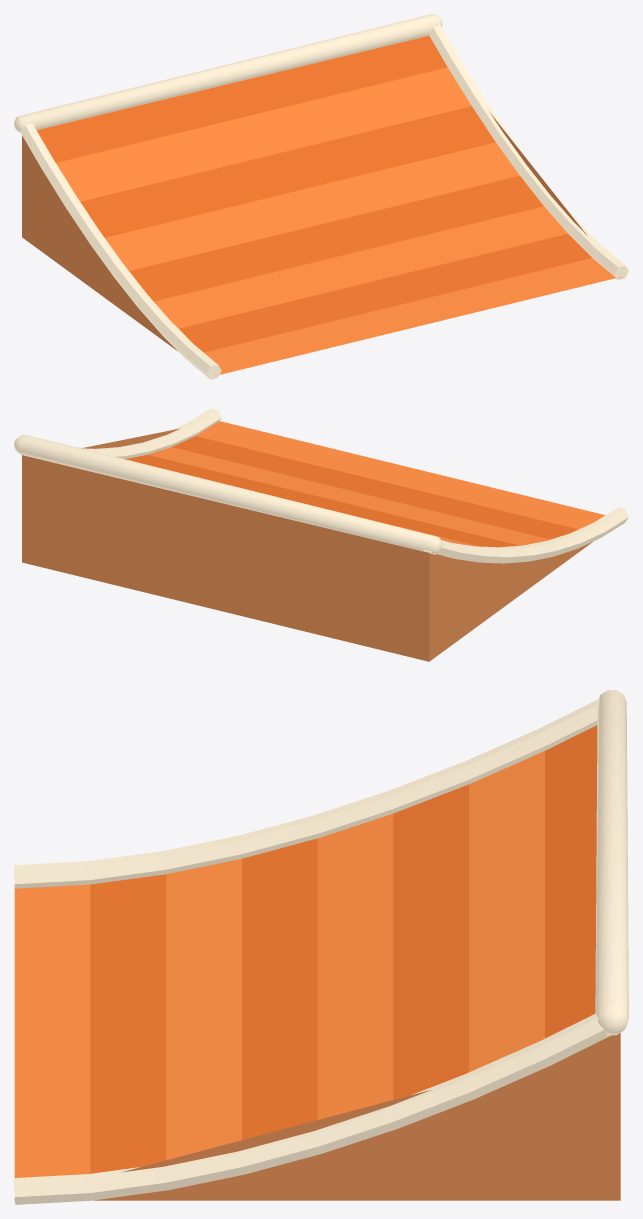
The model's file is ramp.glb.
3 views of the same model, one above another, from view 1: azimuth 30°, elevation 25°; view 2: azimuth 150°, elevation 25°; view 3: azimuth 270°, elevation 25° (orthographic). The views are drawn at different scales.
Visible parts, largest first — view 1: ramp; view 2: ramp; view 3: ramp.
Part boxes in pixels (bbox=[...]): ramp: bbox=[14, 14, 628, 379]; ramp: bbox=[14, 408, 628, 661]; ramp: bbox=[14, 690, 628, 1204].
Bounding box in the file's own units: 4.6 × 1.29 × 3.65.
Materials: 1 (1 with a texture image).
